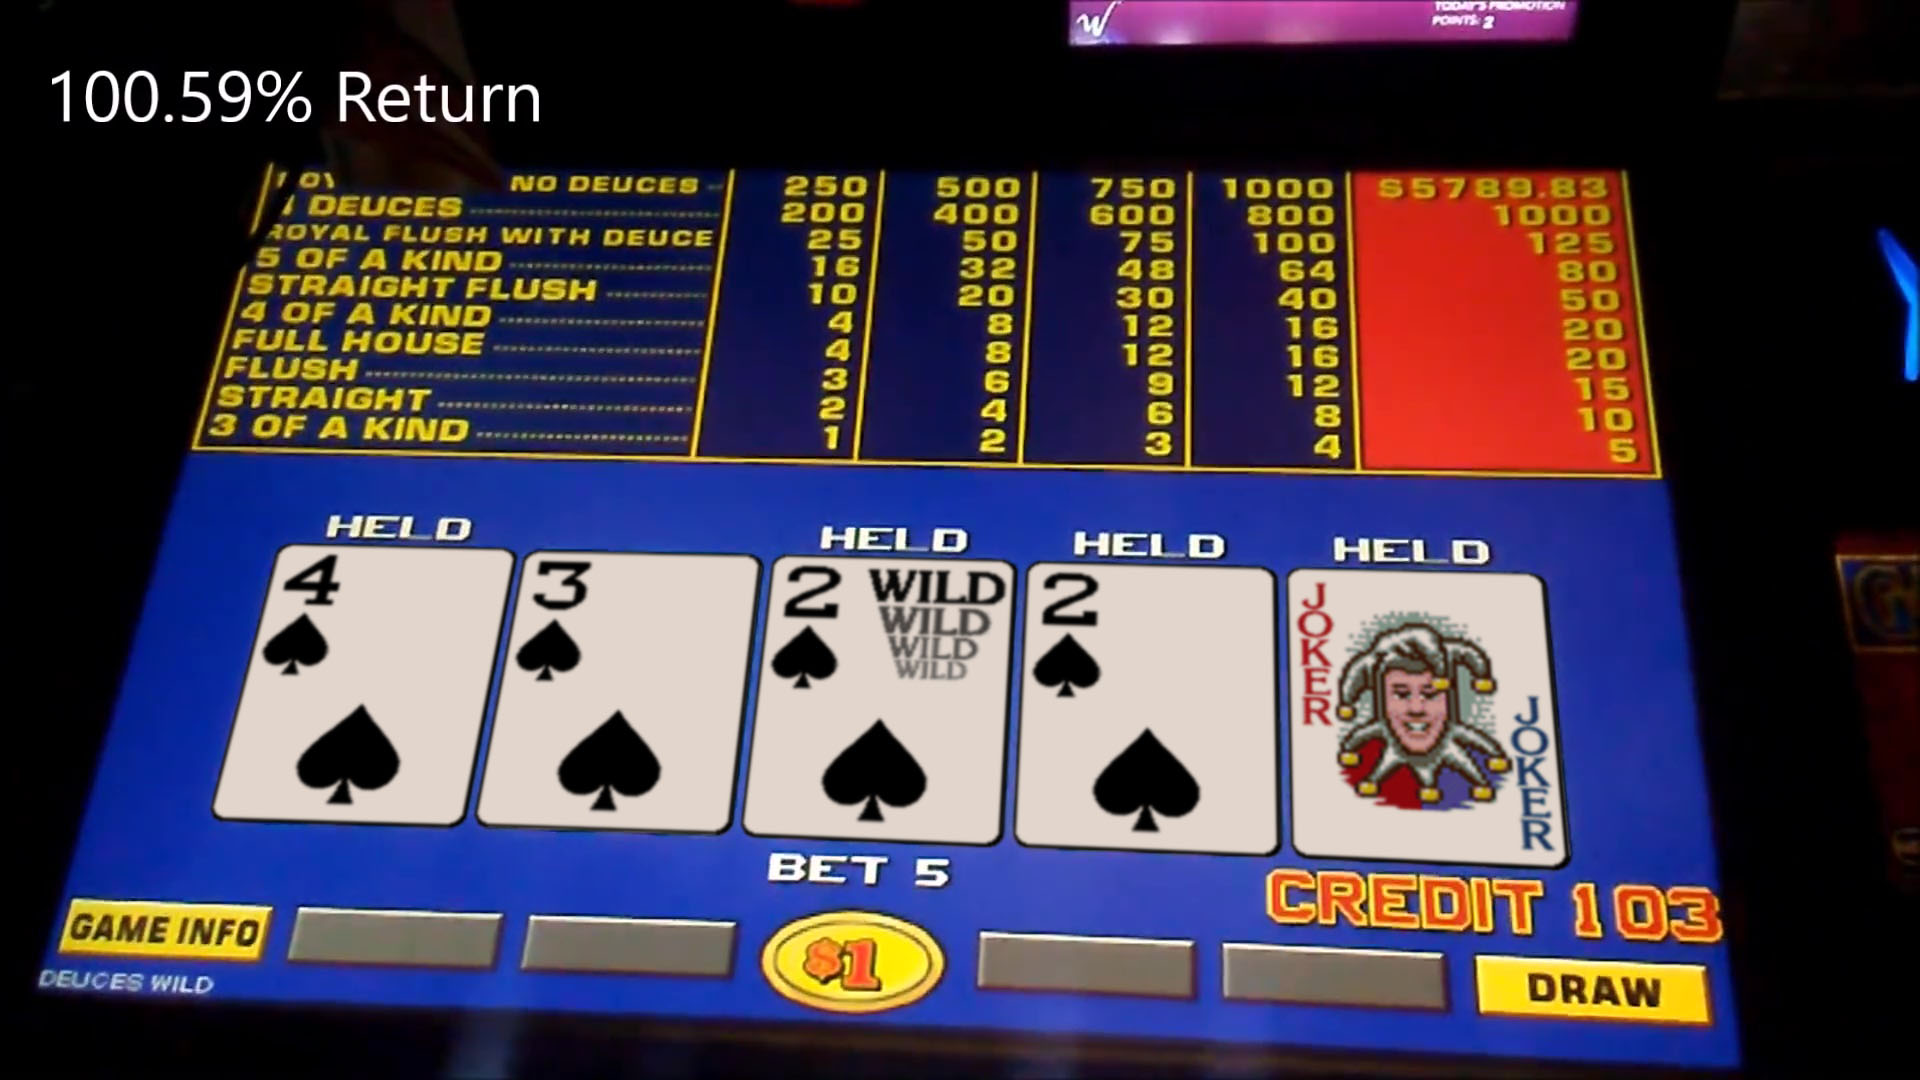S2: (1027, 566, 1270, 704)
S2W: (771, 558, 1007, 696)
S3: (520, 553, 745, 688)
S4: (265, 549, 491, 684)
joker: (1294, 575, 1540, 707)
